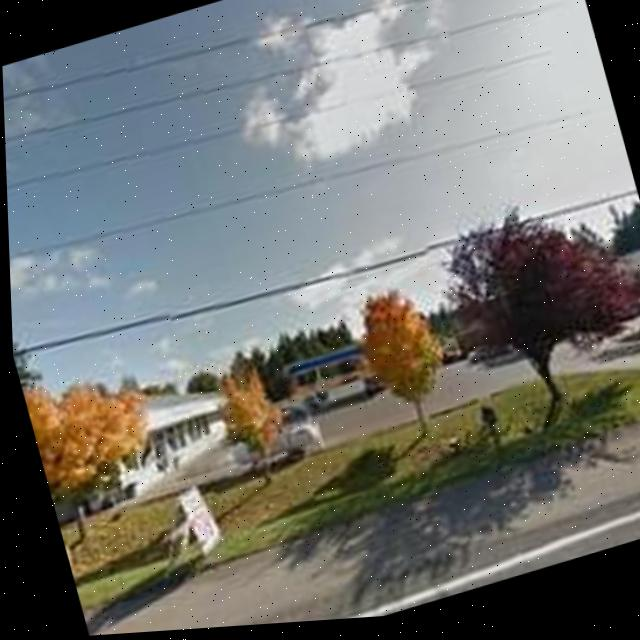building: (98, 364, 249, 493)
